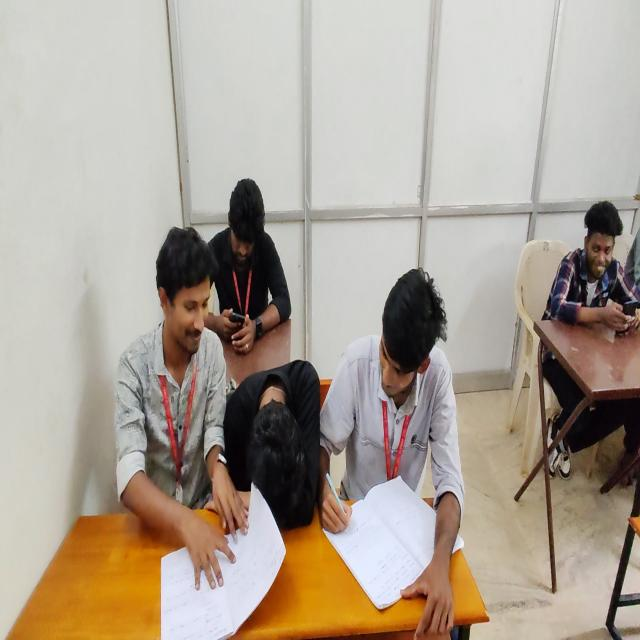sleeping: (220, 333, 324, 545)
turning: (95, 218, 254, 640)
using_mobile: (192, 160, 295, 364), (536, 179, 640, 361)
writing: (314, 235, 478, 640)
